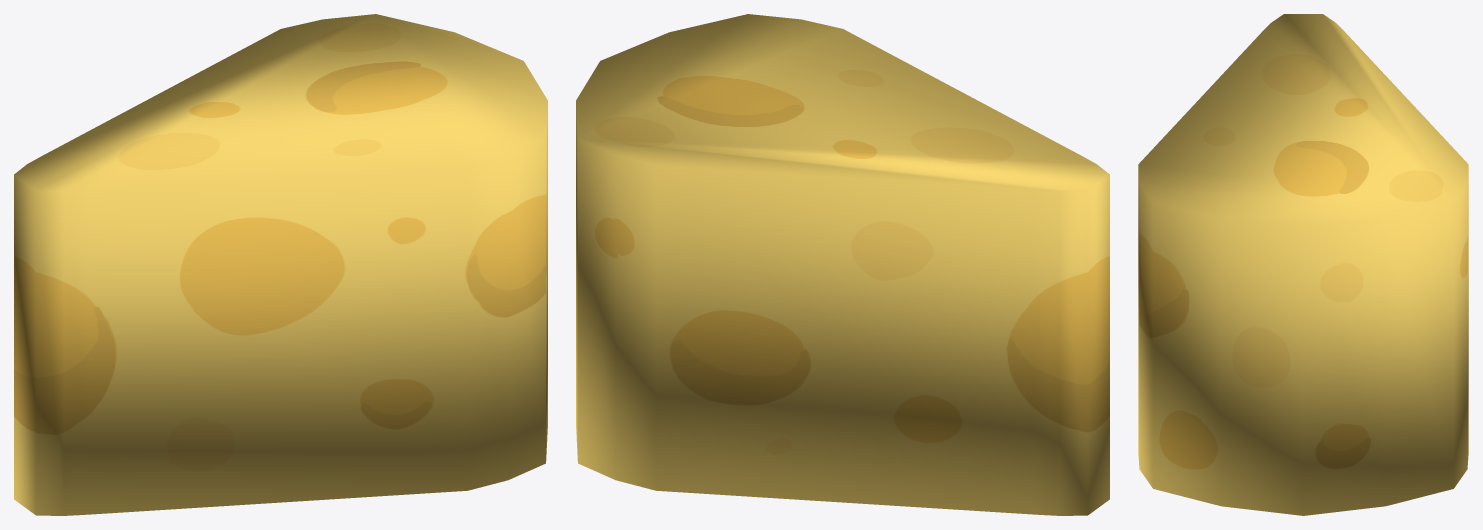
File: Cheese.fbx
3 renders of one model, left to right at view 1: azimuth 30°, elevation 25°; view 2: azimuth 150°, elevation 25°; view 3: azimuth 270°, elevation 25°, orthographic. The views are drawn at different scales.
Parts seen in each view (by area): view 1: cheese; view 2: cheese; view 3: cheese.
Boxes of the visible parts, x1=… form: cheese: x1=14, y1=14, x2=547, y2=515; cheese: x1=576, y1=14, x2=1109, y2=515; cheese: x1=1138, y1=14, x2=1468, y2=515.
Bounding box in the file's own units: 41.84 × 26.04 × 27.19.
Materials: 1 (1 with a texture image).
